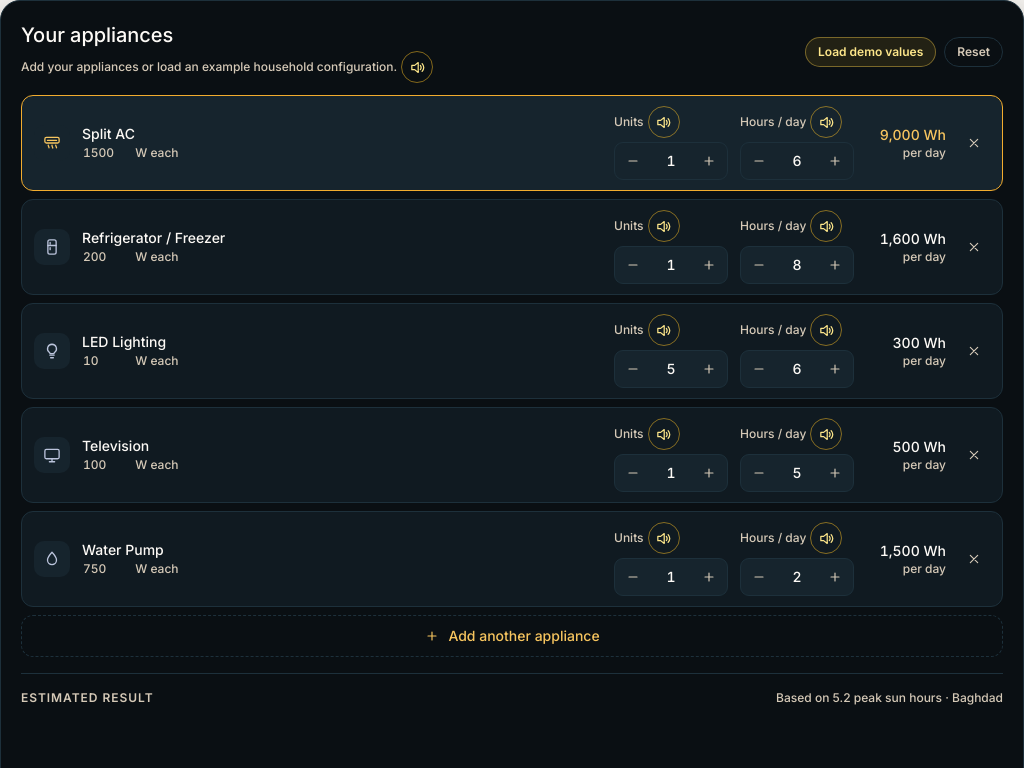
Test case: SolarCalculator quote handoff › starts a new quote request pre-filled with the calculator result
Step 1. Click the button "Reset" → point(974, 52), box [944,37,1003,67]
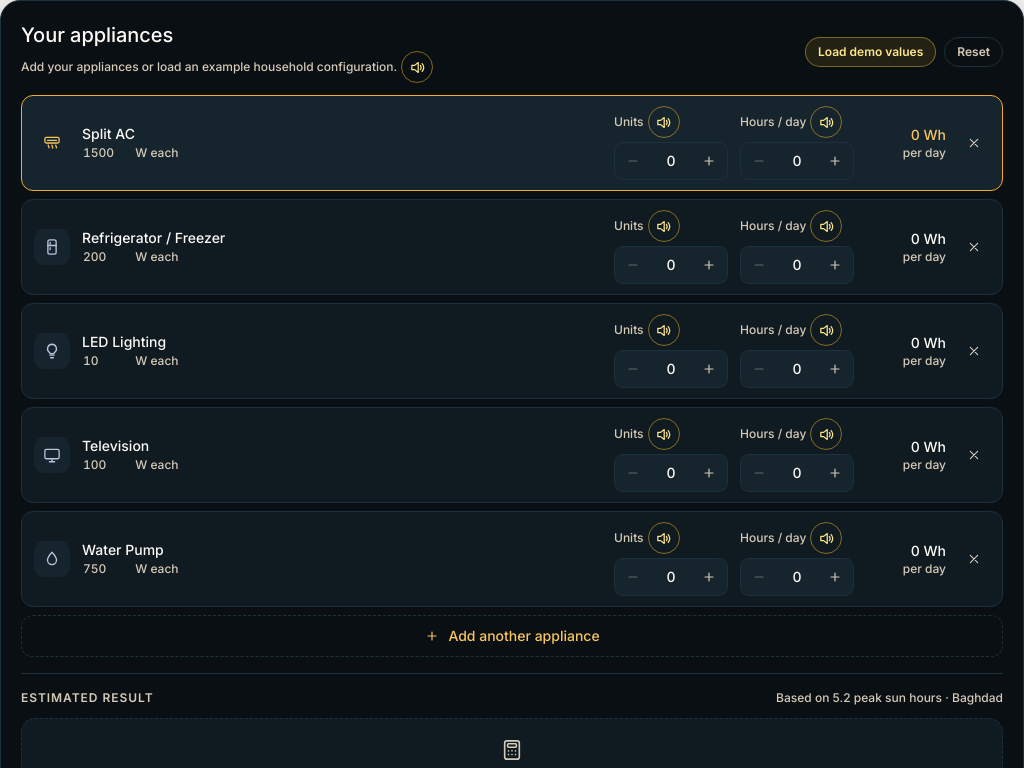
Expected: the button "Split AC" is shown, [82,124,135,144]
Step 2. Click the button "Load demo values" → point(871, 52), box [805,37,936,67]
(page scrolled)
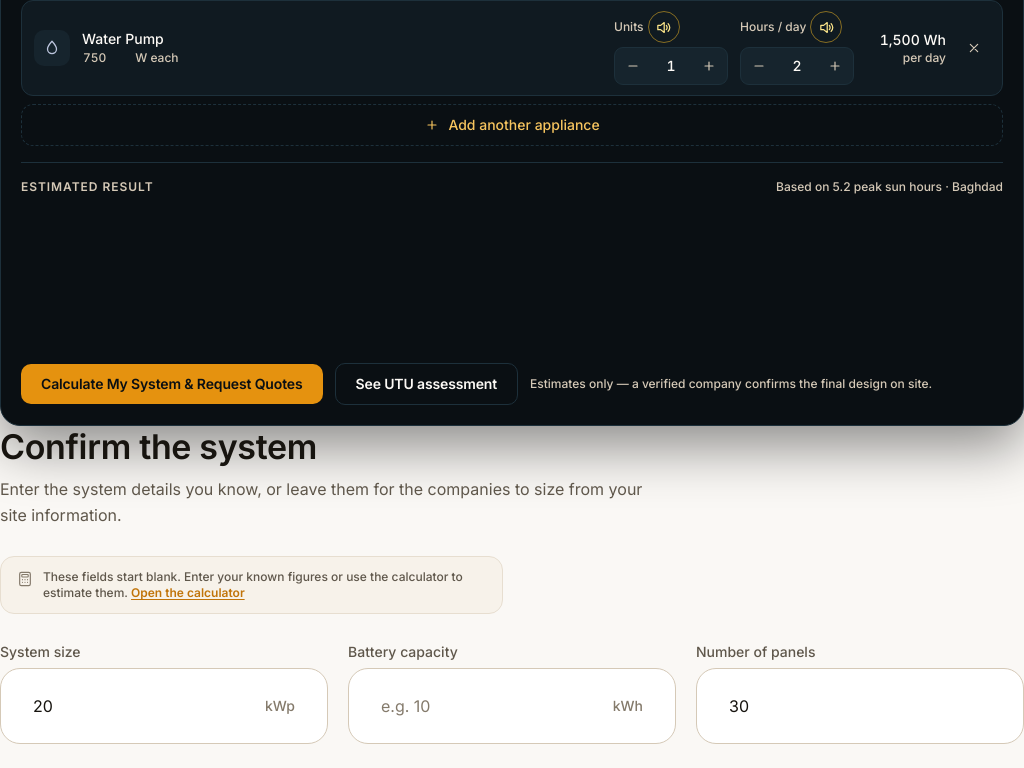
Step 3. Click the button "Calculate My System & Request Quotes" → point(172, 384), box [21,364,322,404]
(page scrolled)
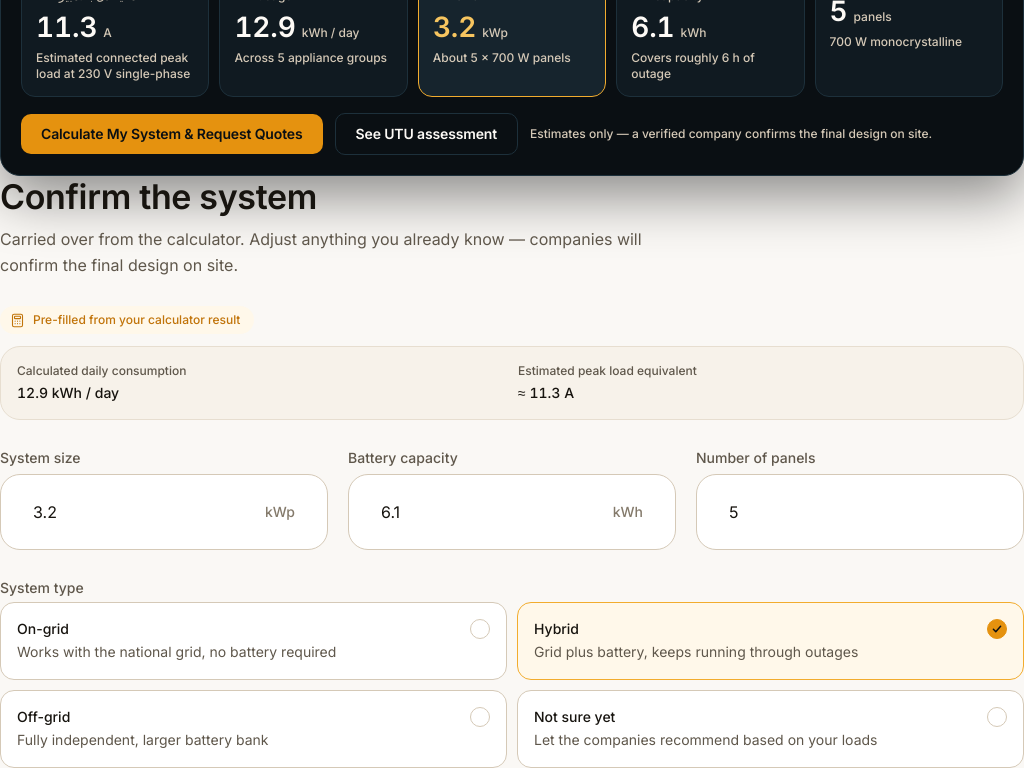
Now the text "Calculated daily consumption" is shown, box [17,363,186,378]
Now the text "Estimated peak load equivalent" is shown, box [518,363,697,378]
Now the number field labelled "System size" holds "3.2", box [17,487,255,537]
